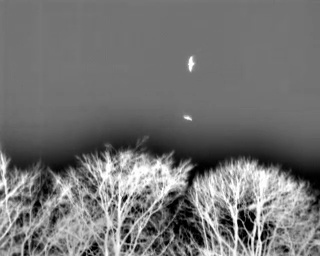BIRD: (181, 112, 195, 125)
